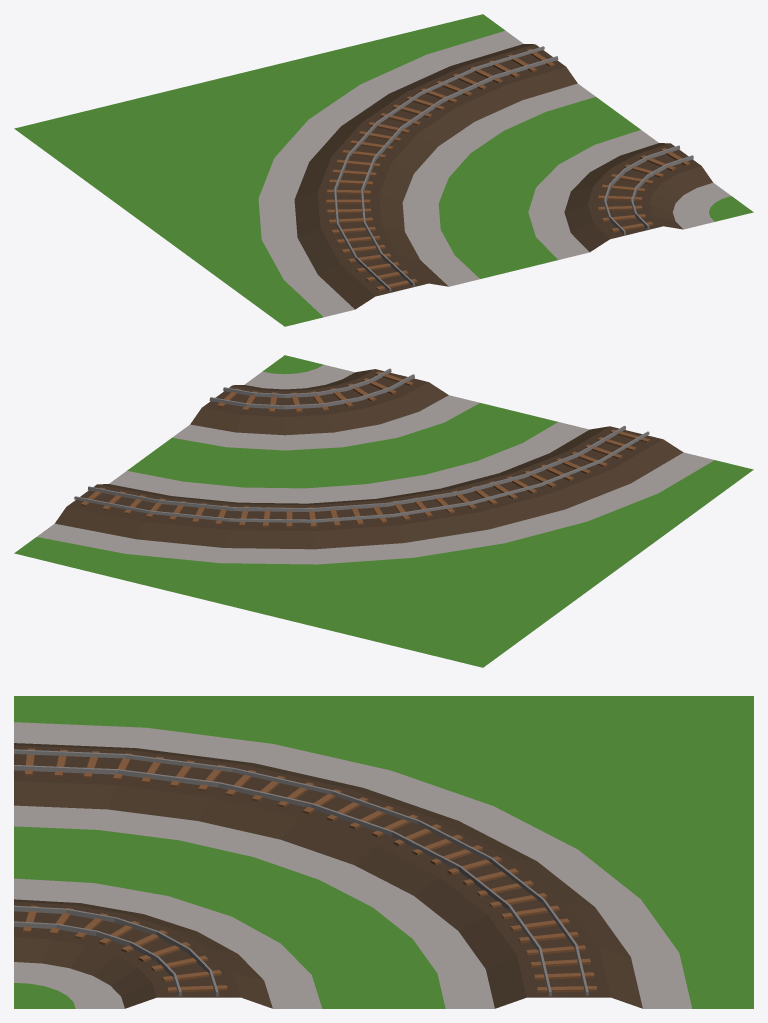
The model's file is tiles-nb-tile-rail-curve-double-nb.glb.
3 renders of one model, top to bottom at view 1: azimuth 30°, elevation 25°; view 2: azimuth 150°, elevation 25°; view 3: azimuth 270°, elevation 25°, orthographic. The views are drawn at different scales.
Visible parts, largest first — view 1: tile-rail-curve-double-nb; view 2: tile-rail-curve-double-nb; view 3: tile-rail-curve-double-nb.
Boxes of the visible parts, x1,y1,x2,y2 form: tile-rail-curve-double-nb: (14, 14, 753, 326); tile-rail-curve-double-nb: (14, 355, 753, 667); tile-rail-curve-double-nb: (14, 696, 753, 1008).
Bounding box in the file's own units: 30 × 0.749 × 30.
